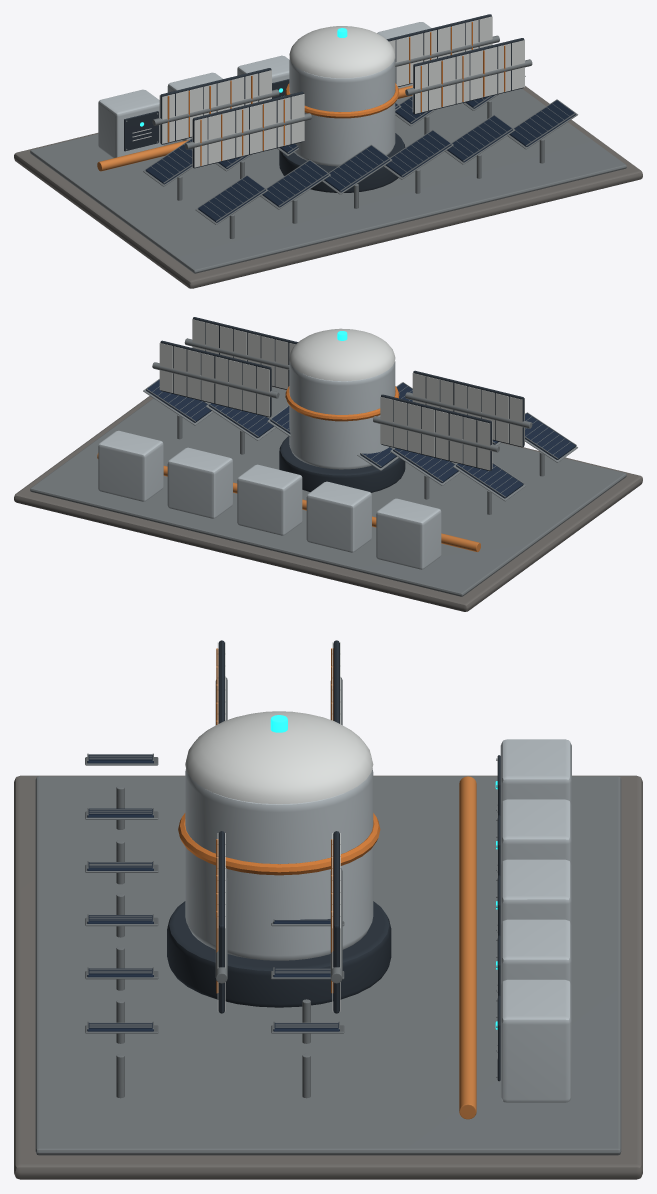
Rendered from power-hub.glb.
The picture shows the model from 3 angles, top to bottom: view 1: azimuth 30°, elevation 25°; view 2: azimuth 150°, elevation 25°; view 3: azimuth 270°, elevation 25°; orthographic projection. The views are drawn at different scales.
Parts seen in each view (by area): view 1: Power_BusDeck, Power_Foundation, Power_ReactorVessel, Detail_Power_RadiatorPanel_-1_-1, Detail_Power_RadiatorPanel_+1_-1, Power_ReactorCrown, RenderBatch_PowerHub_POWER_Body, Detail_Power_RadiatorPanel_-1_+1, Detail_Power_RadiatorPanel_+1_+1, RenderBatch_Power_RadiatorRoot_POWER_Frame, RenderBatch_Power_RadiatorRoot_POWER_SafetyOrange, Power_ReactorSkirt (+14 smaller); view 2: Power_BusDeck, RenderBatch_PowerHub_POWER_Body, Power_Foundation, Power_ReactorVessel, Detail_Power_RadiatorPanel_-1_+1, Detail_Power_RadiatorPanel_+1_+1, Power_ReactorCrown, Detail_Power_RadiatorPanel_-1_-1, Detail_Power_RadiatorPanel_+1_-1, Power_ReactorSkirt, RenderBatch_Power_RadiatorRoot_POWER_Frame, Power_SolarPanel_01 (+10 smaller); view 3: Power_BusDeck, Power_Foundation, RenderBatch_PowerHub_POWER_Body, Power_ReactorVessel, Power_ReactorCrown, Power_ReactorSkirt, Power_MainBus, Power_ReactorBand, RenderBatch_Power_RadiatorRoot_POWER_Frame, RenderBatch_Power_RadiatorRoot_POWER_SafetyOrange, Power_RadiatorPanel_+1_+1, Power_RadiatorPanel_+1_-1.
Boxes of the visible parts, x1,y1,x2,y2 form: Power_BusDeck: (30, 88, 626, 273); Power_Foundation: (14, 86, 642, 288); Power_ReactorVessel: (289, 59, 395, 166); Detail_Power_RadiatorPanel_-1_-1: (192, 94, 304, 167); Detail_Power_RadiatorPanel_+1_-1: (412, 40, 524, 113); Power_ReactorCrown: (289, 26, 395, 78); RenderBatch_PowerHub_POWER_Body: (98, 22, 431, 158); Detail_Power_RadiatorPanel_-1_+1: (159, 70, 271, 143); Detail_Power_RadiatorPanel_+1_+1: (389, 16, 492, 86); RenderBatch_Power_RadiatorRoot_POWER_Frame: (152, 35, 532, 149); RenderBatch_Power_RadiatorRoot_POWER_SafetyOrange: (167, 22, 505, 165); Power_ReactorSkirt: (279, 133, 405, 192); Power_BusDeck: (30, 387, 626, 596); RenderBatch_PowerHub_POWER_Body: (98, 430, 441, 569); Power_Foundation: (14, 386, 642, 611); Power_ReactorVessel: (289, 361, 395, 469); Detail_Power_RadiatorPanel_-1_+1: (380, 396, 492, 470); Detail_Power_RadiatorPanel_+1_+1: (159, 343, 271, 416); Power_ReactorCrown: (289, 328, 395, 381); Detail_Power_RadiatorPanel_-1_-1: (412, 373, 524, 446); Detail_Power_RadiatorPanel_+1_-1: (192, 319, 295, 389); Power_ReactorSkirt: (279, 436, 405, 492); RenderBatch_Power_RadiatorRoot_POWER_Frame: (152, 338, 532, 452); Power_SolarPanel_01: (525, 413, 575, 459); Power_BusDeck: (35, 776, 621, 1155); Power_Foundation: (14, 775, 642, 1179); RenderBatch_PowerHub_POWER_Body: (500, 739, 571, 1102); Power_ReactorVessel: (185, 768, 373, 960); Power_ReactorCrown: (185, 711, 373, 804); Power_ReactorSkirt: (167, 901, 391, 1007); Power_MainBus: (459, 776, 476, 1119); Power_ReactorBand: (178, 813, 380, 875); RenderBatch_Power_RadiatorRoot_POWER_Frame: (215, 676, 342, 983); RenderBatch_Power_RadiatorRoot_POWER_SafetyOrange: (216, 648, 333, 993); Power_RadiatorPanel_+1_+1: (333, 831, 339, 1013); Power_RadiatorPanel_+1_-1: (218, 831, 224, 1013).
Bounding box in the file's own units: 17 × 5.4 × 11.5.
